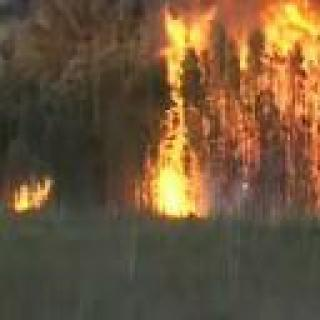fire: (140, 0, 320, 225), (3, 172, 60, 212)
